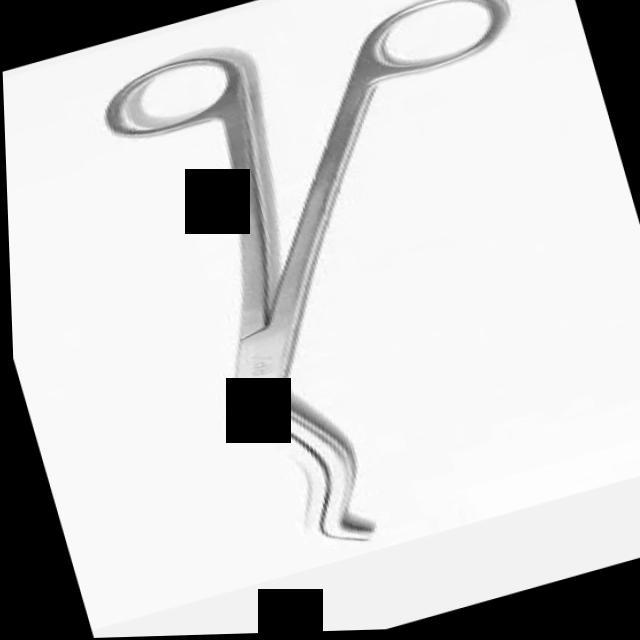Cheatle Forceps: (80, 0, 640, 590)
